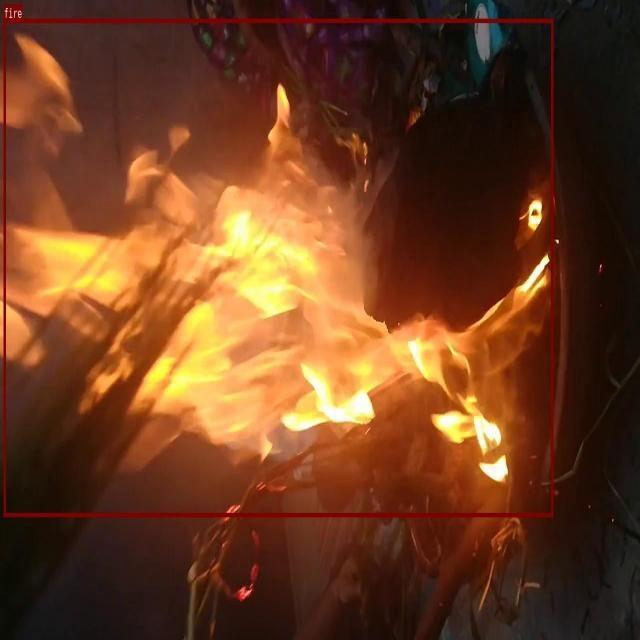fire: (3, 19, 553, 517)
